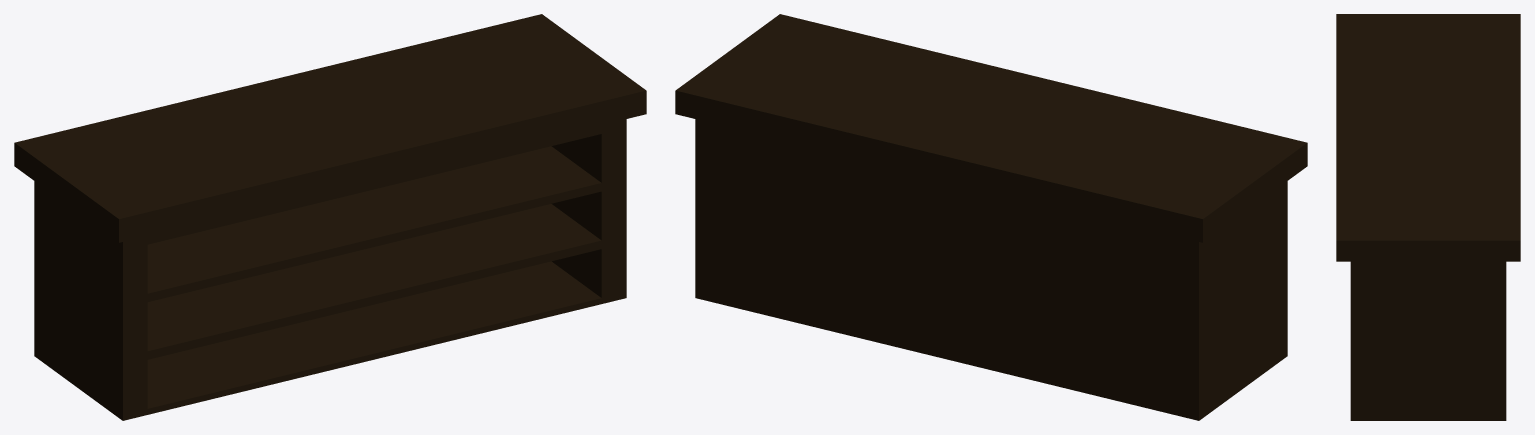
The model's file is counterV3.fbx.
The picture shows the model from 3 angles, left to right: view 1: azimuth 30°, elevation 25°; view 2: azimuth 150°, elevation 25°; view 3: azimuth 270°, elevation 25°; orthographic projection. The views are drawn at different scales.
Parts seen in each view (by area): view 1: counter; view 2: counter; view 3: counter.
Boxes of the visible parts, bbox=[...] form: counter: bbox=[14, 14, 646, 420]; counter: bbox=[675, 14, 1307, 420]; counter: bbox=[1336, 14, 1520, 420].
Size of the model in its own units: 5.95 by 2.27 by 2.04.
